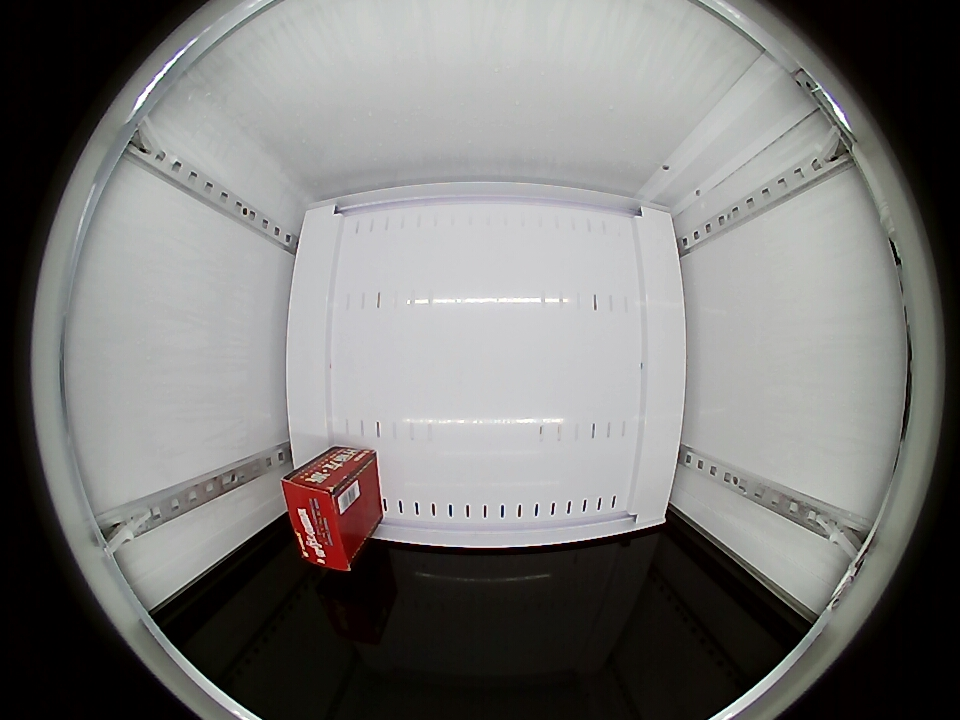haoliyou: (280, 464, 367, 571)
